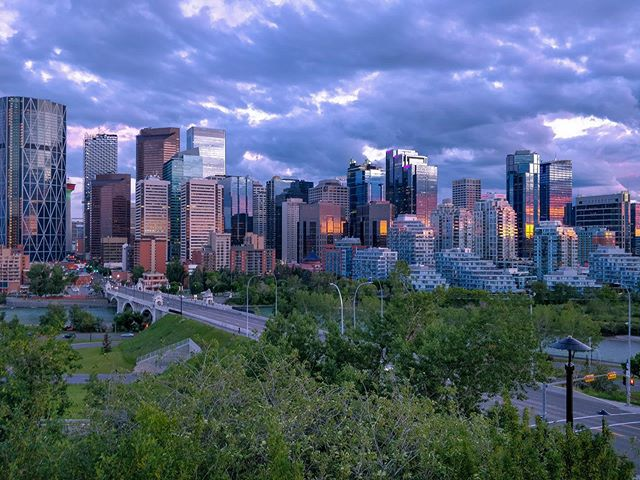bridge: (86, 280, 199, 330)
building: (4, 99, 68, 261), (81, 126, 127, 251), (263, 174, 311, 263), (443, 250, 525, 298), (185, 186, 226, 281), (570, 192, 636, 251), (390, 146, 438, 220), (471, 202, 521, 272), (502, 148, 536, 244), (133, 181, 165, 279), (314, 174, 352, 252), (352, 198, 401, 256), (395, 216, 436, 284), (218, 176, 255, 247), (528, 226, 577, 279), (137, 122, 179, 183), (585, 249, 640, 295), (435, 203, 469, 274), (344, 163, 389, 213), (543, 157, 574, 223), (193, 128, 230, 178), (320, 241, 363, 279), (350, 244, 394, 281), (452, 174, 483, 211)
sky: (6, 1, 640, 166)
tree: (396, 311, 544, 419), (251, 294, 389, 405)
vegetation: (1, 333, 525, 480)
